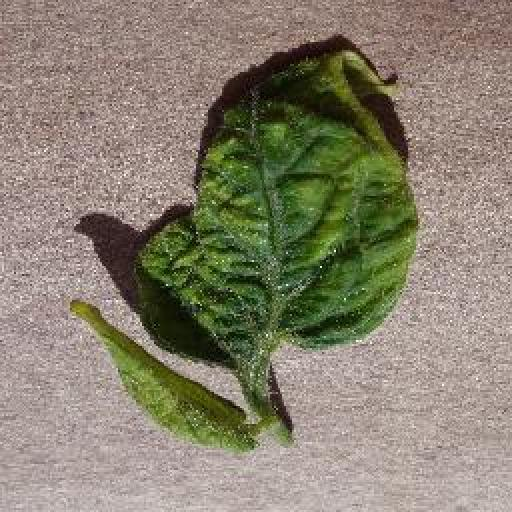Yellow Leaf Curl Virus: (132, 44, 419, 367), (74, 299, 254, 456)
